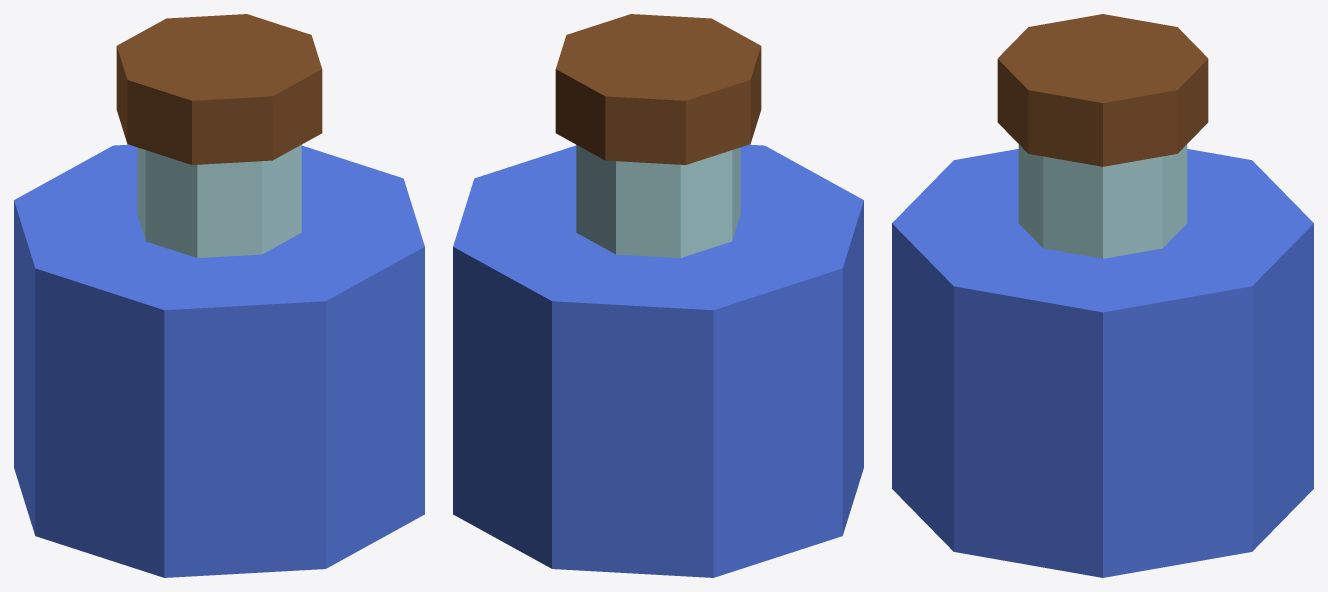
The model's file is potion_blue.glb.
3 views of the same model, side by side, from view 1: azimuth 30°, elevation 25°; view 2: azimuth 150°, elevation 25°; view 3: azimuth 270°, elevation 25° (orthographic).
Visible parts, largest first — view 1: potion_blue; view 2: potion_blue; view 3: potion_blue.
Boxes of the visible parts, x1,y1,x2,y2 form: potion_blue: [14, 14, 424, 577]; potion_blue: [453, 14, 863, 577]; potion_blue: [892, 14, 1313, 577].
Size of the model in its own units: 0.36 by 0.405 by 0.36.
